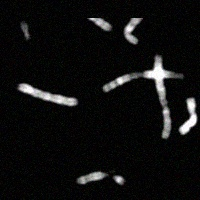chromosome: (103, 69, 183, 92), (154, 55, 171, 138), (18, 83, 78, 106), (178, 97, 197, 134), (124, 16, 143, 44), (77, 171, 109, 184), (20, 22, 32, 39), (112, 175, 127, 185)
